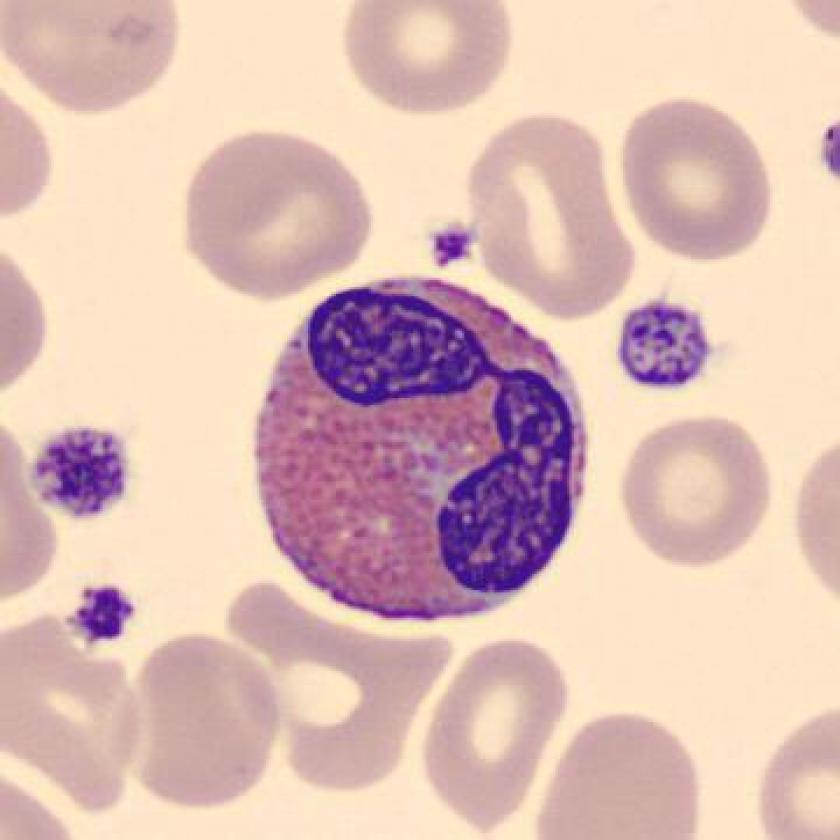eosinophil: (232, 262, 605, 642)
